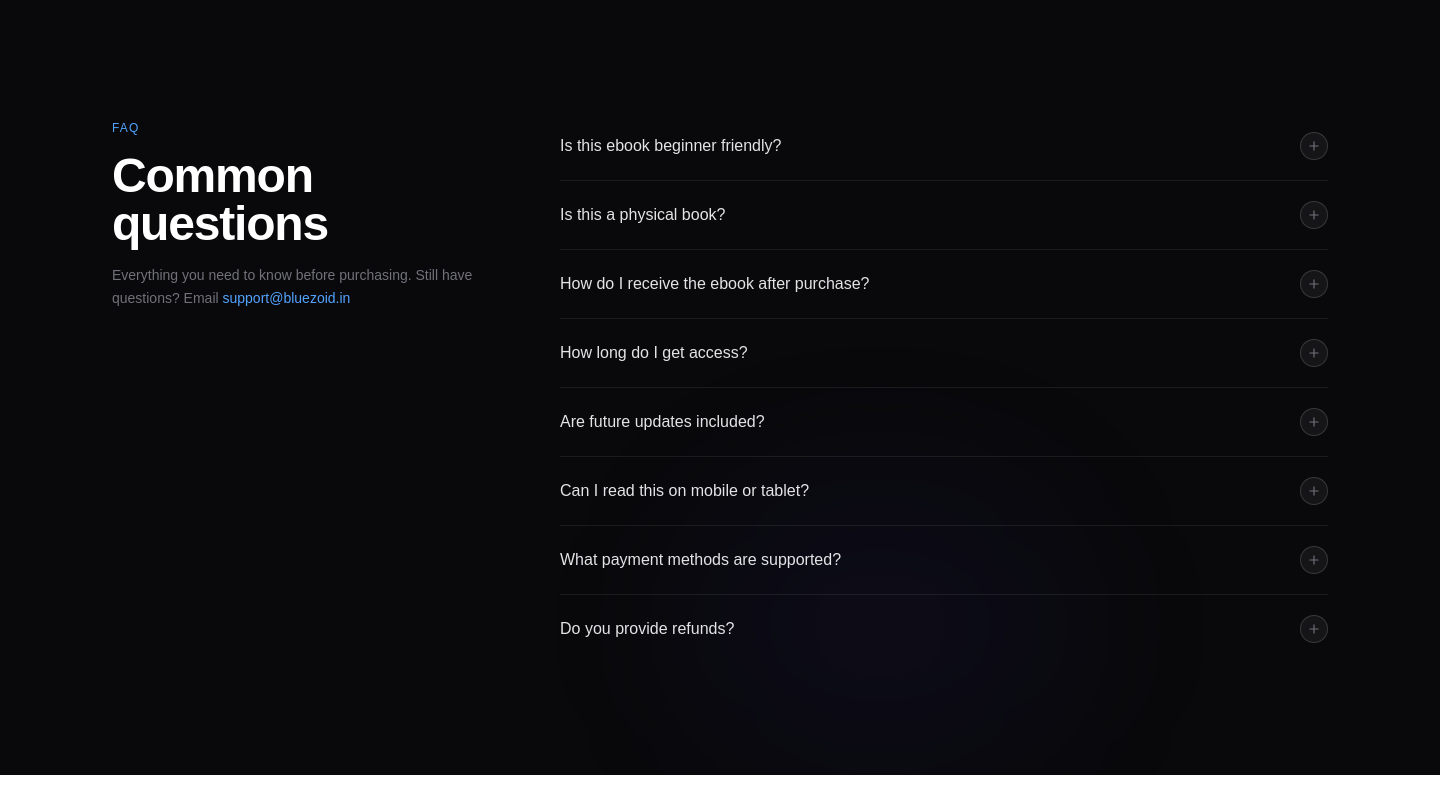
Test: FAQAccordion › clicking a question expands its answer
Click the button "Is this ebook beginner friendly?" at (671, 146), box [560,112,1328,180]
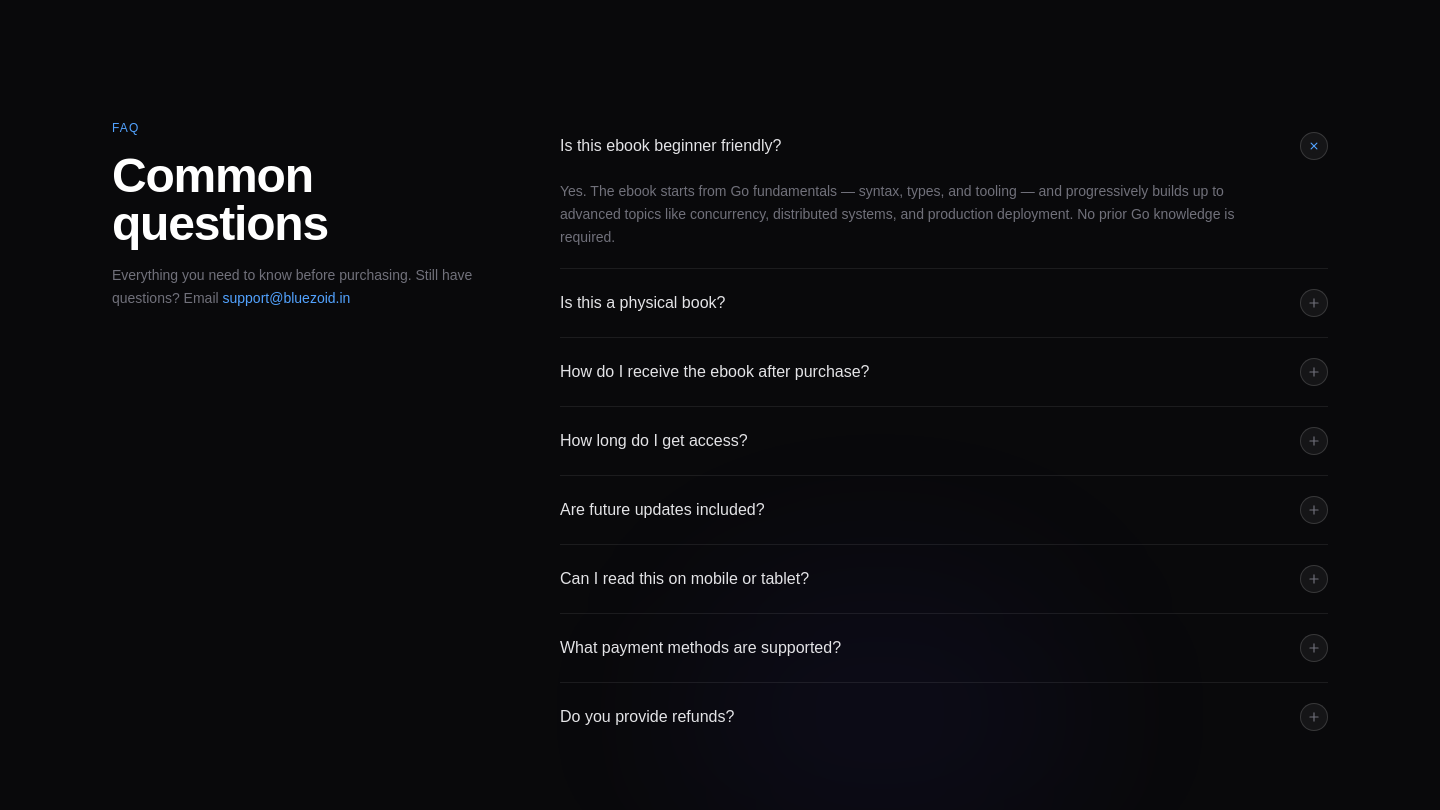
Result: the button "Is this ebook beginner friendly?" is expanded at [560,112,1328,180]
